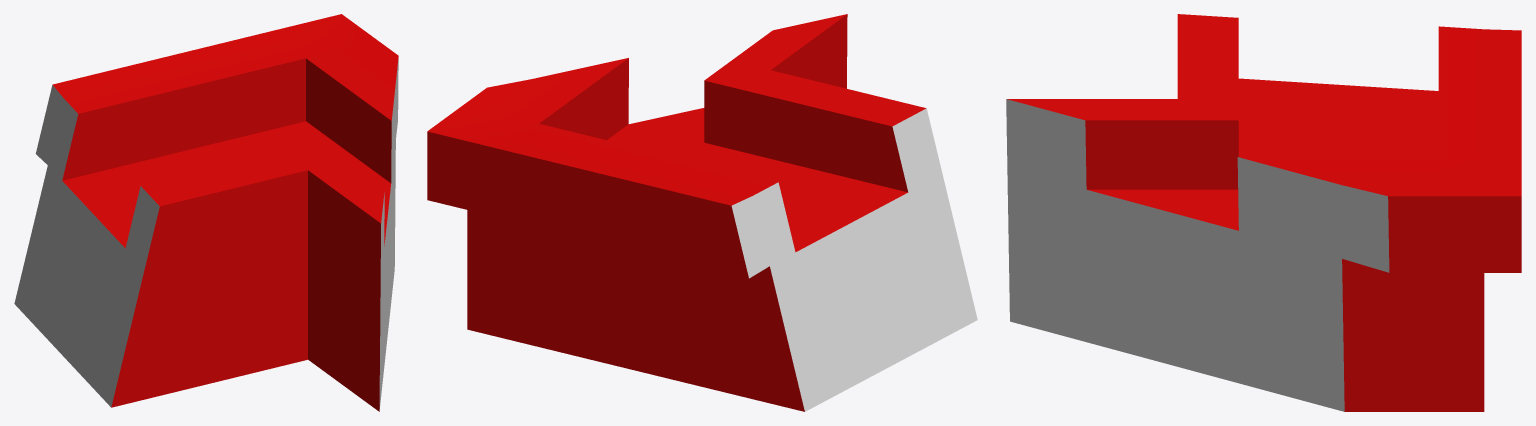
Rendered from mdl_ciudadela_pared_fracturepart4.fbx.
3 views of the same model, side by side, from view 1: azimuth 30°, elevation 25°; view 2: azimuth 150°, elevation 25°; view 3: azimuth 270°, elevation 25° (orthographic). The views are drawn at different scales.
Visible parts, largest first — view 1: mdl_ciudadela_pared_fracturepart4; view 2: mdl_ciudadela_pared_fracturepart4; view 3: mdl_ciudadela_pared_fracturepart4.
Part boxes in pixels (x1,y1,x2,y2): mdl_ciudadela_pared_fracturepart4: [14, 14, 398, 411]; mdl_ciudadela_pared_fracturepart4: [427, 14, 977, 411]; mdl_ciudadela_pared_fracturepart4: [1006, 14, 1521, 411].
Bounding box in the file's own units: 8.53 × 4.21 × 8.6.
